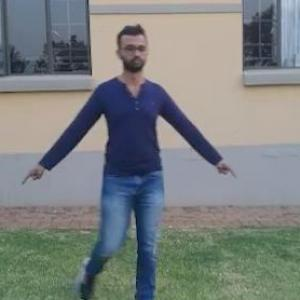land: (39, 34, 212, 292)
